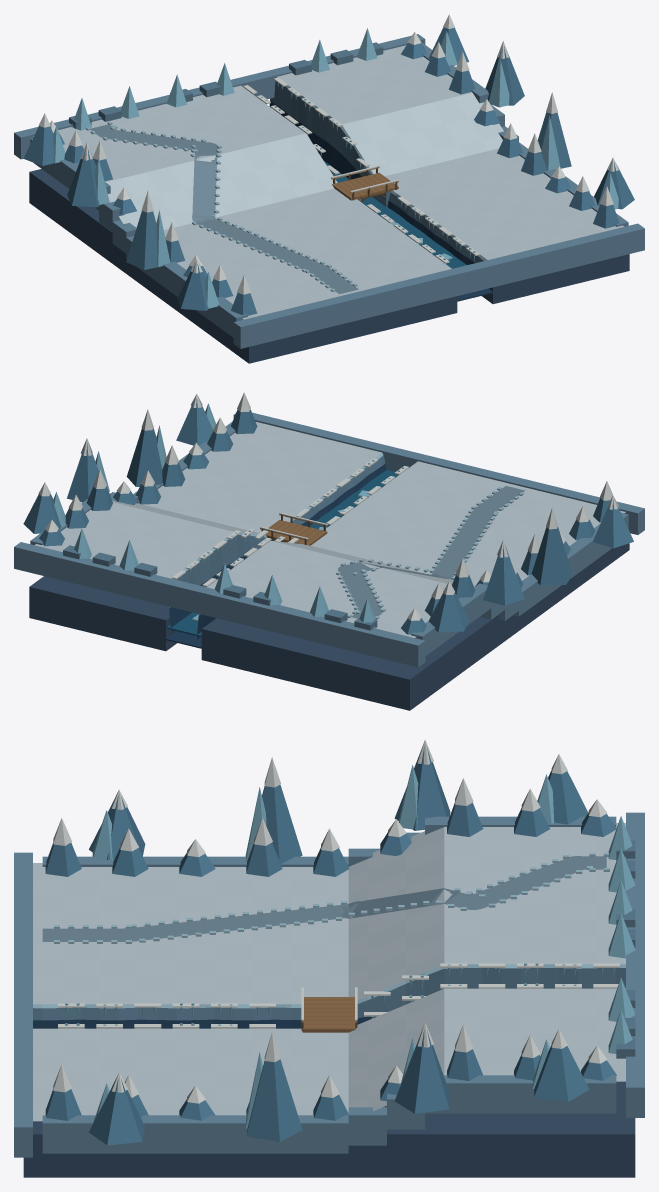
Rendered from frontier-frost.glb.
The picture shows the model from 3 angles, top to bottom: view 1: azimuth 30°, elevation 25°; view 2: azimuth 150°, elevation 25°; view 3: azimuth 270°, elevation 25°; orthographic projection. The views are drawn at different scales.
Parts seen in each view (by area): view 1: frontier-frost; view 2: frontier-frost; view 3: frontier-frost.
Boxes of the visible parts, <box> form: frontier-frost: <box>14,14,644,363</box>; frontier-frost: <box>14,392,644,710</box>; frontier-frost: <box>14,739,644,1177</box>.
Size of the model in its own units: 76.13 by 19.37 by 66.
